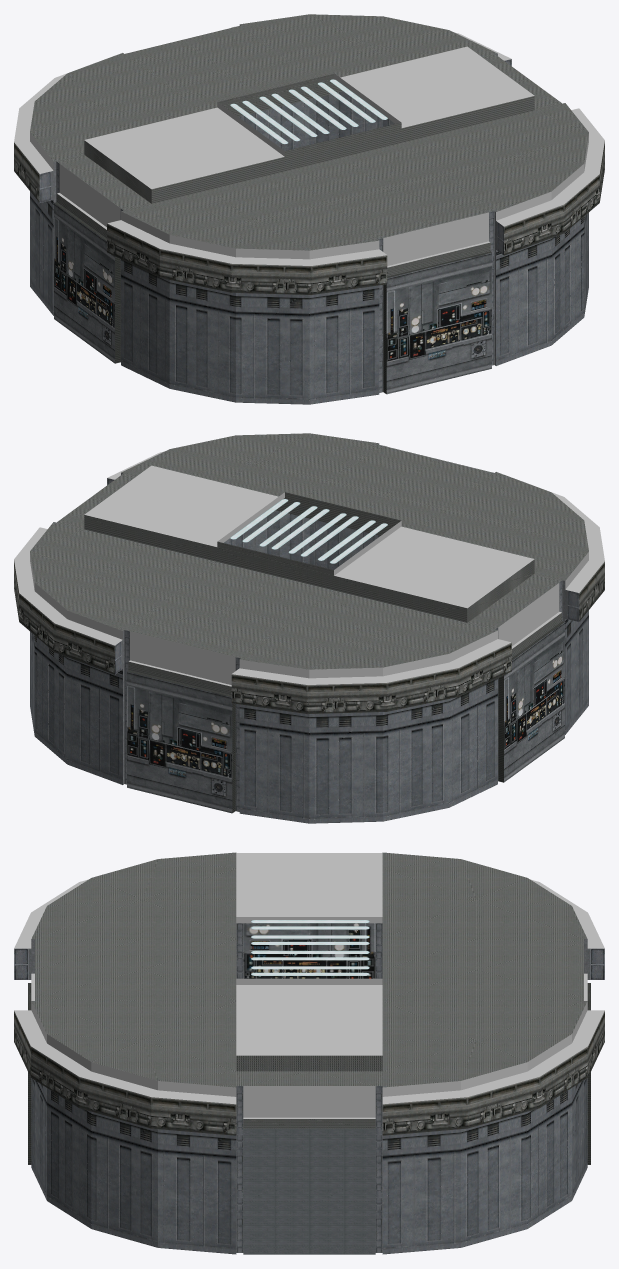
File: poi_all_impl_bunker_small_outpost_s01_r40_radar_room_mesh.fbx
3 views of the same model, one above another, from view 1: azimuth 30°, elevation 25°; view 2: azimuth 150°, elevation 25°; view 3: azimuth 270°, elevation 25° (orthographic). The views are drawn at different scales.
Visible parts, largest first — view 1: mesh_node; view 2: mesh_node; view 3: mesh_node.
Part boxes in pixels (box(x1,y1,x2,y2)): mesh_node: box(14, 14, 604, 404); mesh_node: box(14, 433, 604, 823); mesh_node: box(14, 852, 604, 1254).
Size of the model in its own units: 17 by 6 by 17.
